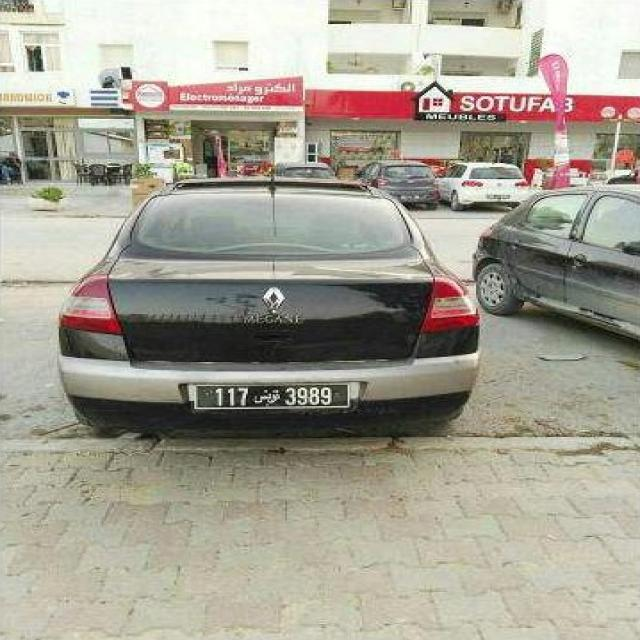licence plate: (194, 384, 350, 411)
